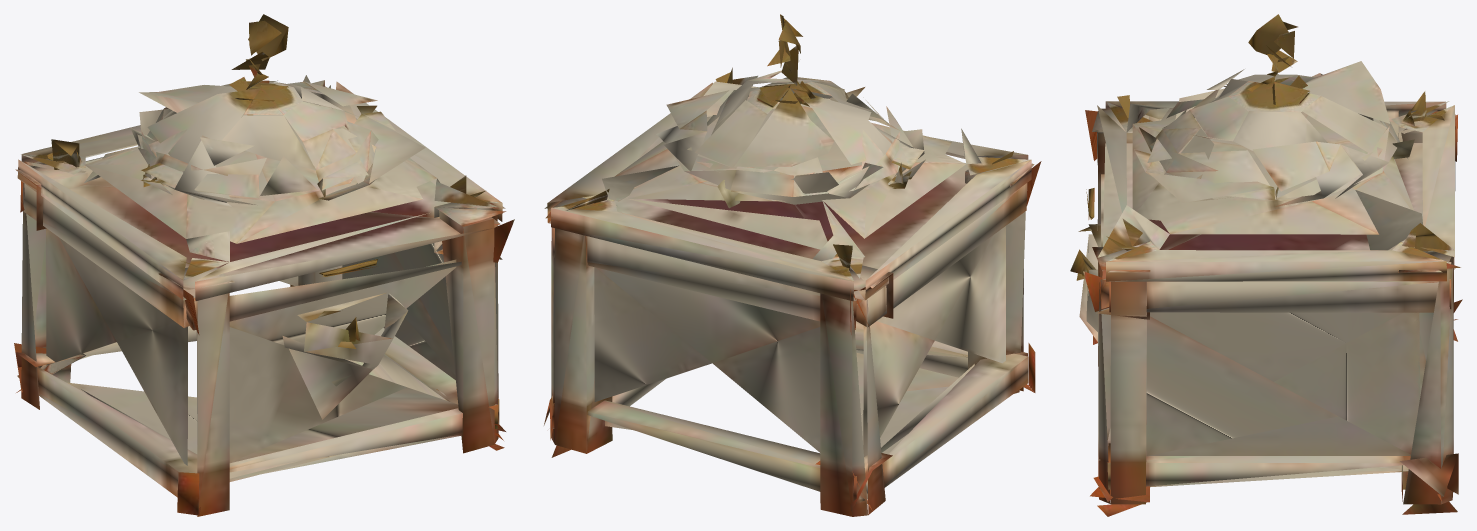
File: cache-box.lod1.glb
The picture shows the model from 3 angles, left to right: view 1: azimuth 30°, elevation 25°; view 2: azimuth 150°, elevation 25°; view 3: azimuth 270°, elevation 25°; orthographic projection. The views are drawn at different scales.
Parts seen in each view (by area): view 1: cache-box_lod1; view 2: cache-box_lod1; view 3: cache-box_lod1.
Part boxes in pixels (<box>): cache-box_lod1: <box>14,14,514,516</box>; cache-box_lod1: <box>544,14,1041,516</box>; cache-box_lod1: <box>1070,14,1462,516</box>.
Size of the model in its own units: 0.6649 by 0.8077 by 0.6675.
Materials: 1 (1 with a texture image).
